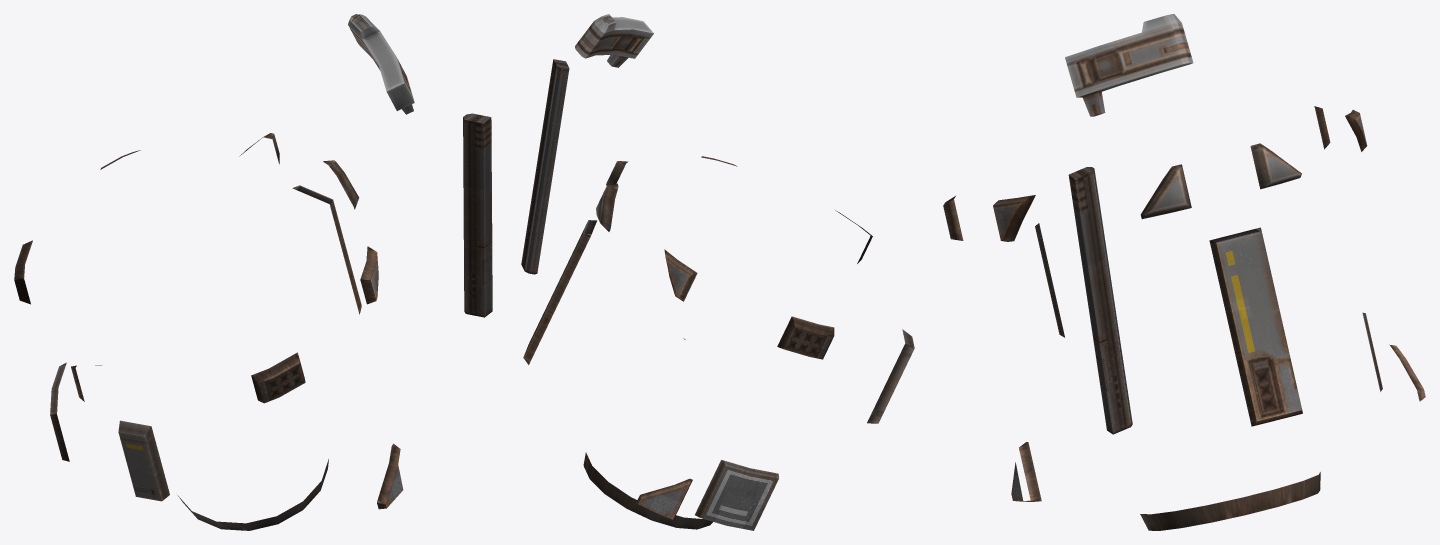
File: prop_static_generic_container_01_05_0.glb
3 renders of one model, left to right at view 1: azimuth 30°, elevation 25°; view 2: azimuth 150°, elevation 25°; view 3: azimuth 270°, elevation 25°, orthographic. The views are drawn at different scales.
Parts seen in each view (by area): view 1: generic_container_01_05_LOD0; view 2: generic_container_01_05_LOD0; view 3: generic_container_01_05_LOD0.
Boxes of the visible parts, x1,y1,x2,y2 form: generic_container_01_05_LOD0: [14, 14, 492, 530]; generic_container_01_05_LOD0: [521, 14, 914, 530]; generic_container_01_05_LOD0: [943, 14, 1425, 530].
Size of what is drawn, in the model's own units: 1.93 by 2.23 by 1.7.
1 material, 1 textured.
